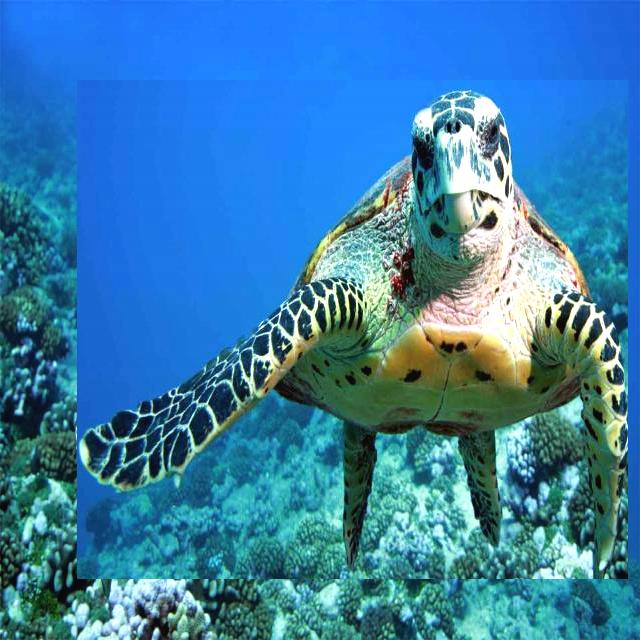Sea turtle: (77, 80, 628, 579)
